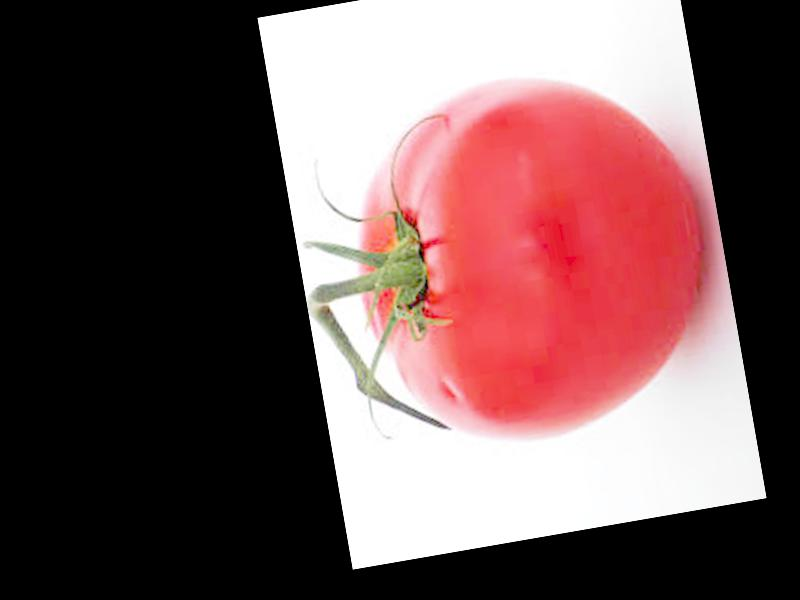Tomato: (330, 47, 732, 461)
